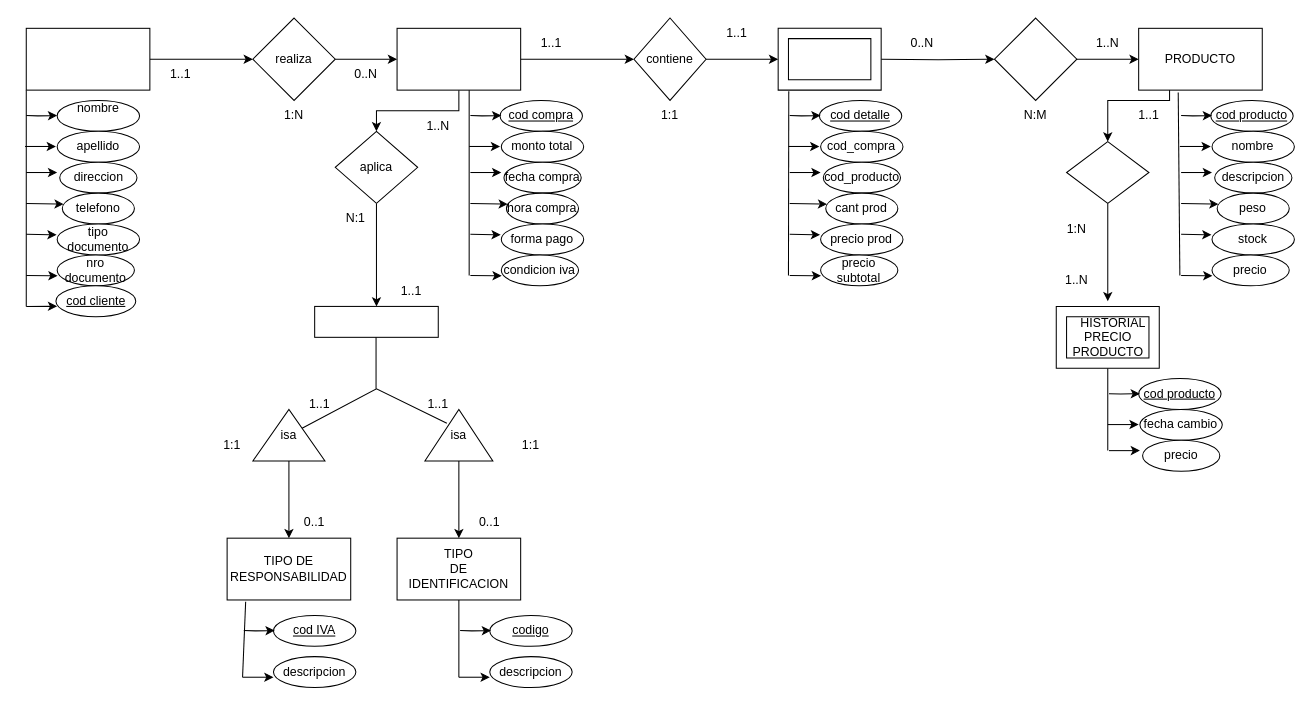
The diagram is 1313 pixels wide and 706 high, and some of its shapes have lost their labels. Here are the shapes that lost their labels. From the top down, the box of each, then its label:
(25, 27, 150, 90): CLIENTE
(396, 27, 521, 90): CARRITO
(777, 27, 881, 90): DETALLE CARRITO
(993, 17, 1077, 100): incluye
(1066, 141, 1149, 203): tiene
(314, 305, 438, 337): IVA
